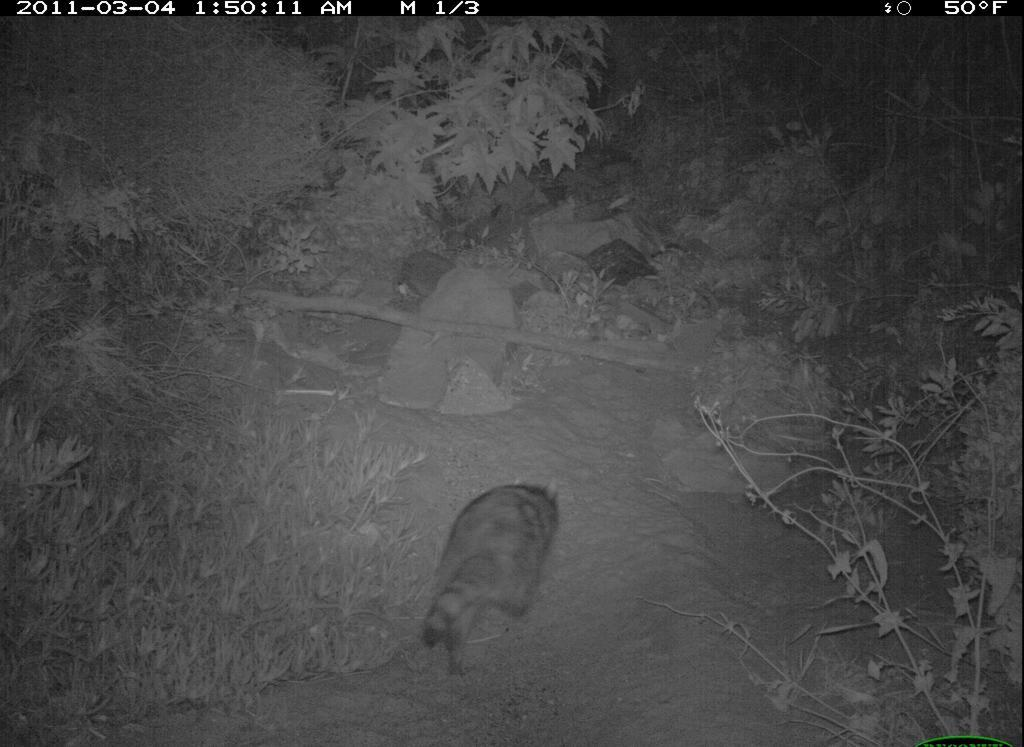raccoon: (419, 479, 566, 683)
